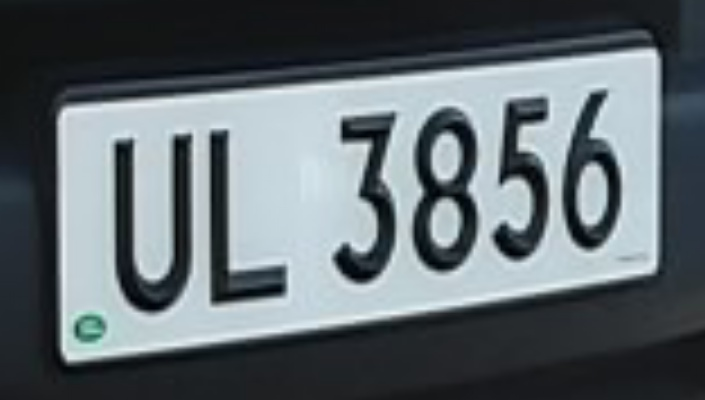3: (322, 94, 408, 290)
5: (486, 81, 561, 267)
6: (553, 79, 630, 264)
8: (404, 92, 492, 285)
L: (195, 114, 316, 314)
U: (96, 118, 205, 326)
